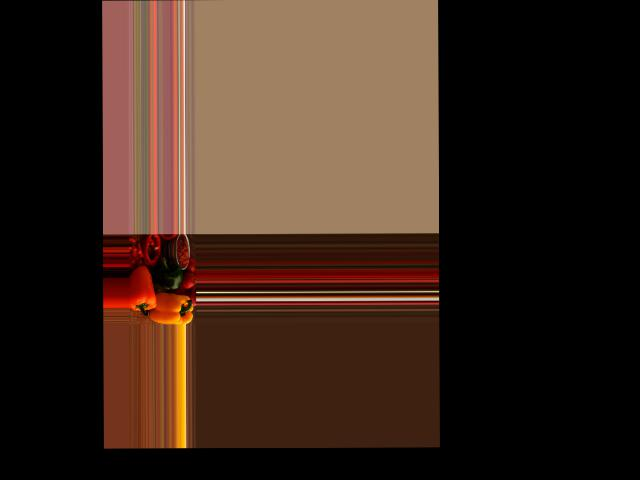bell_pepper: (157, 291, 192, 324)
